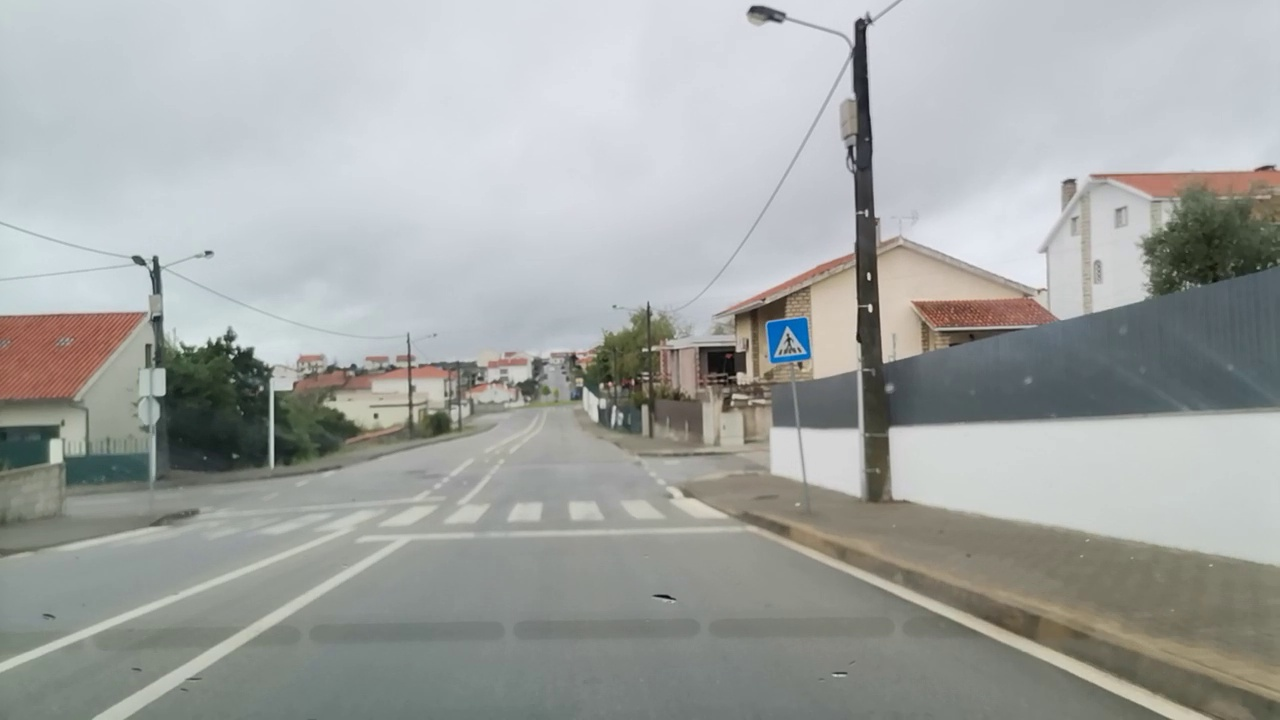Stairs: (67, 497, 723, 545)
